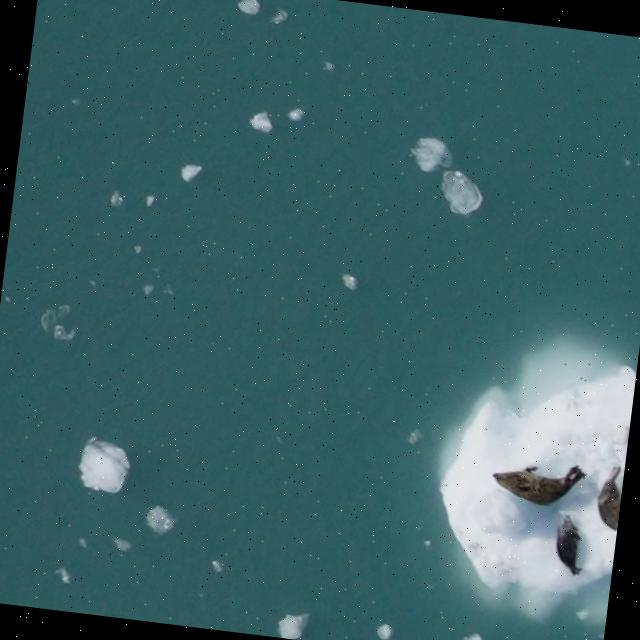seal: (490, 467, 584, 504), (594, 462, 625, 531), (553, 515, 581, 574)
